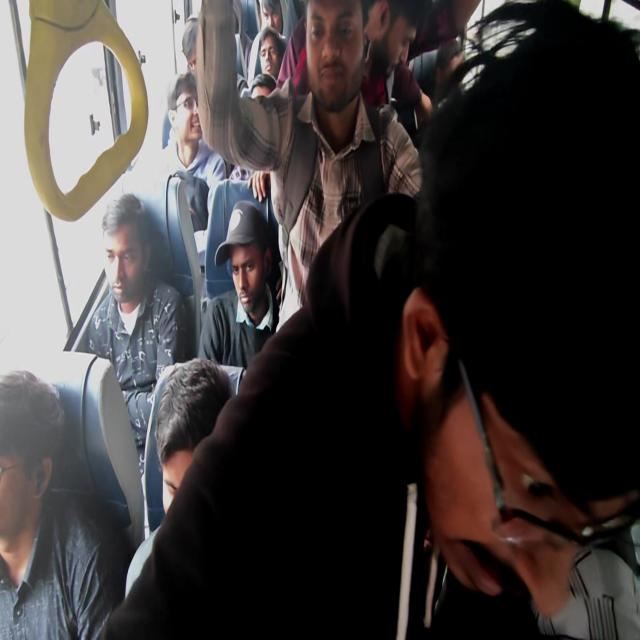person: (98, 1, 639, 637), (390, 1, 639, 637), (195, 0, 424, 335), (84, 192, 191, 538), (0, 368, 126, 638), (123, 356, 234, 599), (197, 198, 280, 372), (154, 356, 234, 516), (360, 0, 432, 140), (165, 71, 227, 231), (258, 26, 286, 80)
